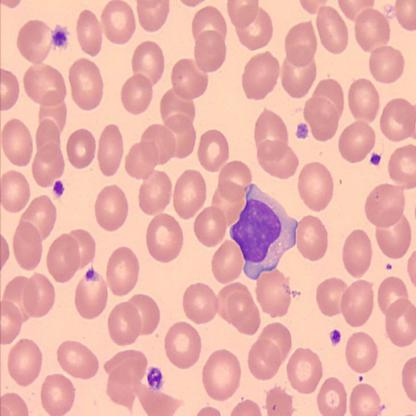Atypical lymphocyte: (230, 180, 296, 280)
